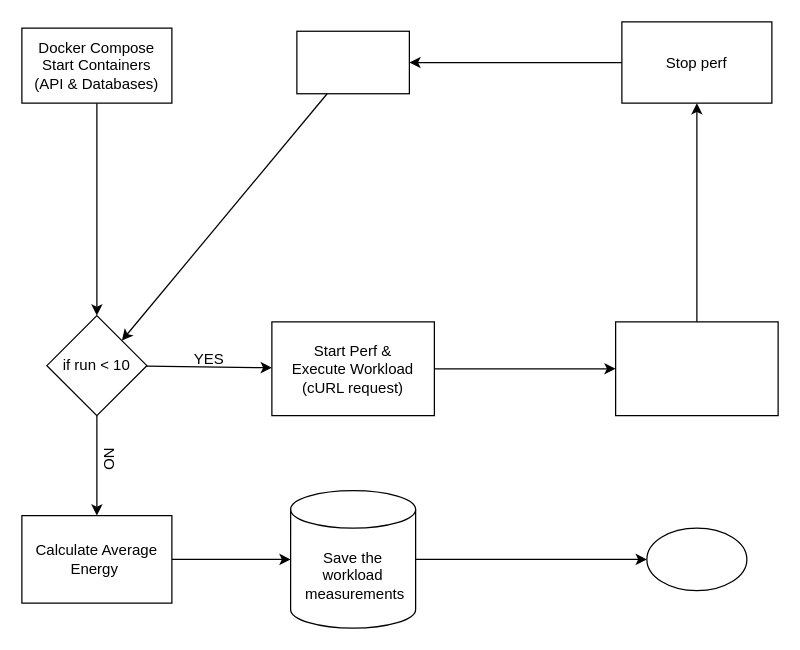
This 800x650 diagram has some shape labels left out. Here are the shapes that lost their labels. From the top down, the centre of each, then its label:
At pixel 352 62: "Save measurements".
At pixel 696 368: "The query is executed in the docker container on the specified cores.".
At pixel 696 559: "stop".
